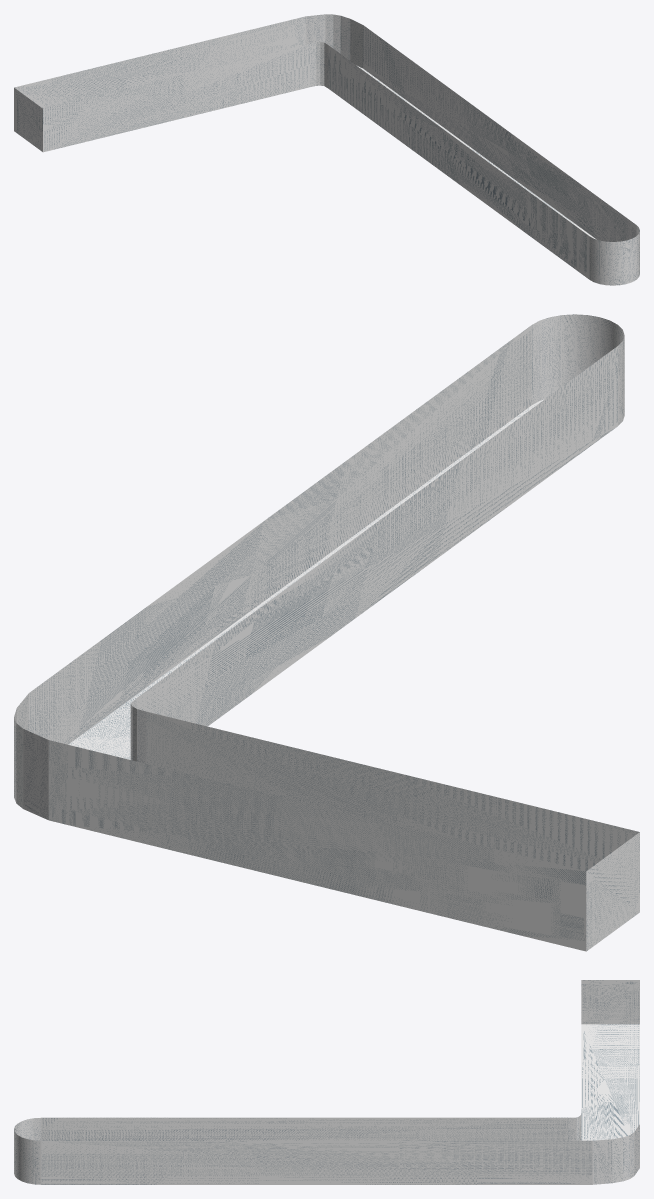
File: Basket.fbx
3 renders of one model, top to bottom at view 1: azimuth 30°, elevation 25°; view 2: azimuth 150°, elevation 25°; view 3: azimuth 270°, elevation 25°, orthographic. The views are drawn at different scales.
Visible parts, largest first — view 1: Model; view 2: Model; view 3: Model.
Part boxes in pixels (x1,y1,x2,y2): Model: (14, 14, 639, 285); Model: (14, 314, 639, 951); Model: (14, 980, 639, 1184).
Size of the model in its own units: 0.9385 by 0.12 by 1.55.
